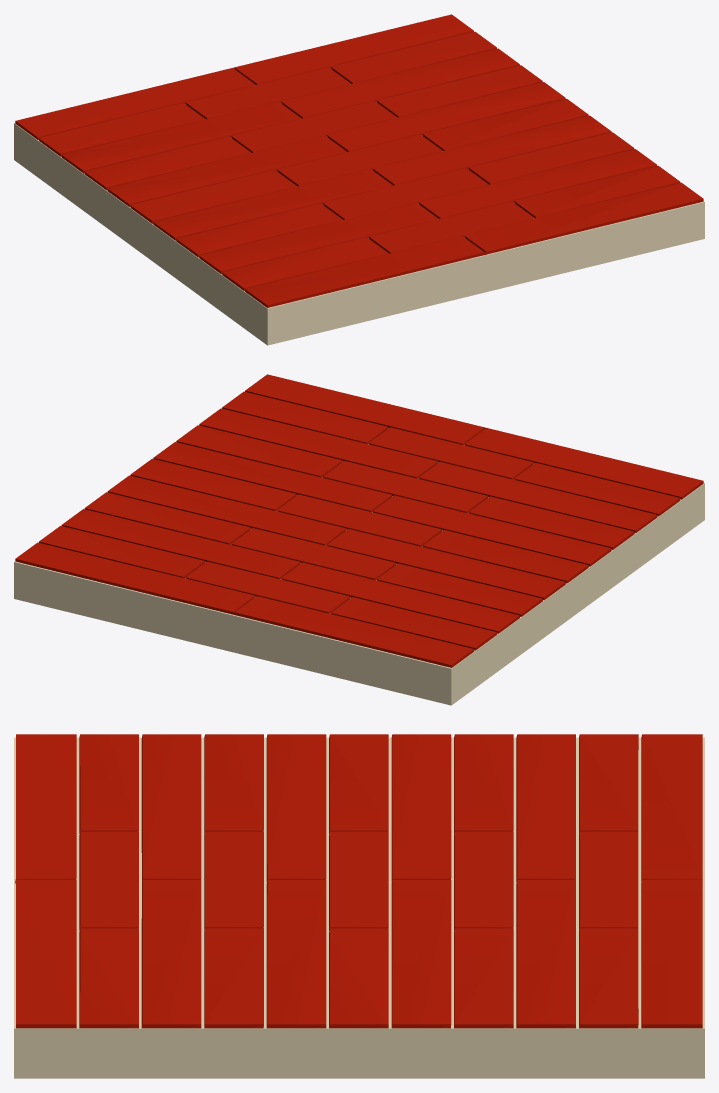
Rendered from piso.fbx.
3 views of the same model, one above another, from view 1: azimuth 30°, elevation 25°; view 2: azimuth 150°, elevation 25°; view 3: azimuth 270°, elevation 25° (orthographic). The views are drawn at different scales.
Parts seen in each view (by area): view 1: piso; view 2: piso; view 3: piso.
Part boxes in pixels (bbox=[...]): piso: bbox=[14, 14, 704, 345]; piso: bbox=[14, 374, 704, 705]; piso: bbox=[14, 734, 704, 1078].
Bounding box in the file's own units: 451 × 39.08 × 453.
